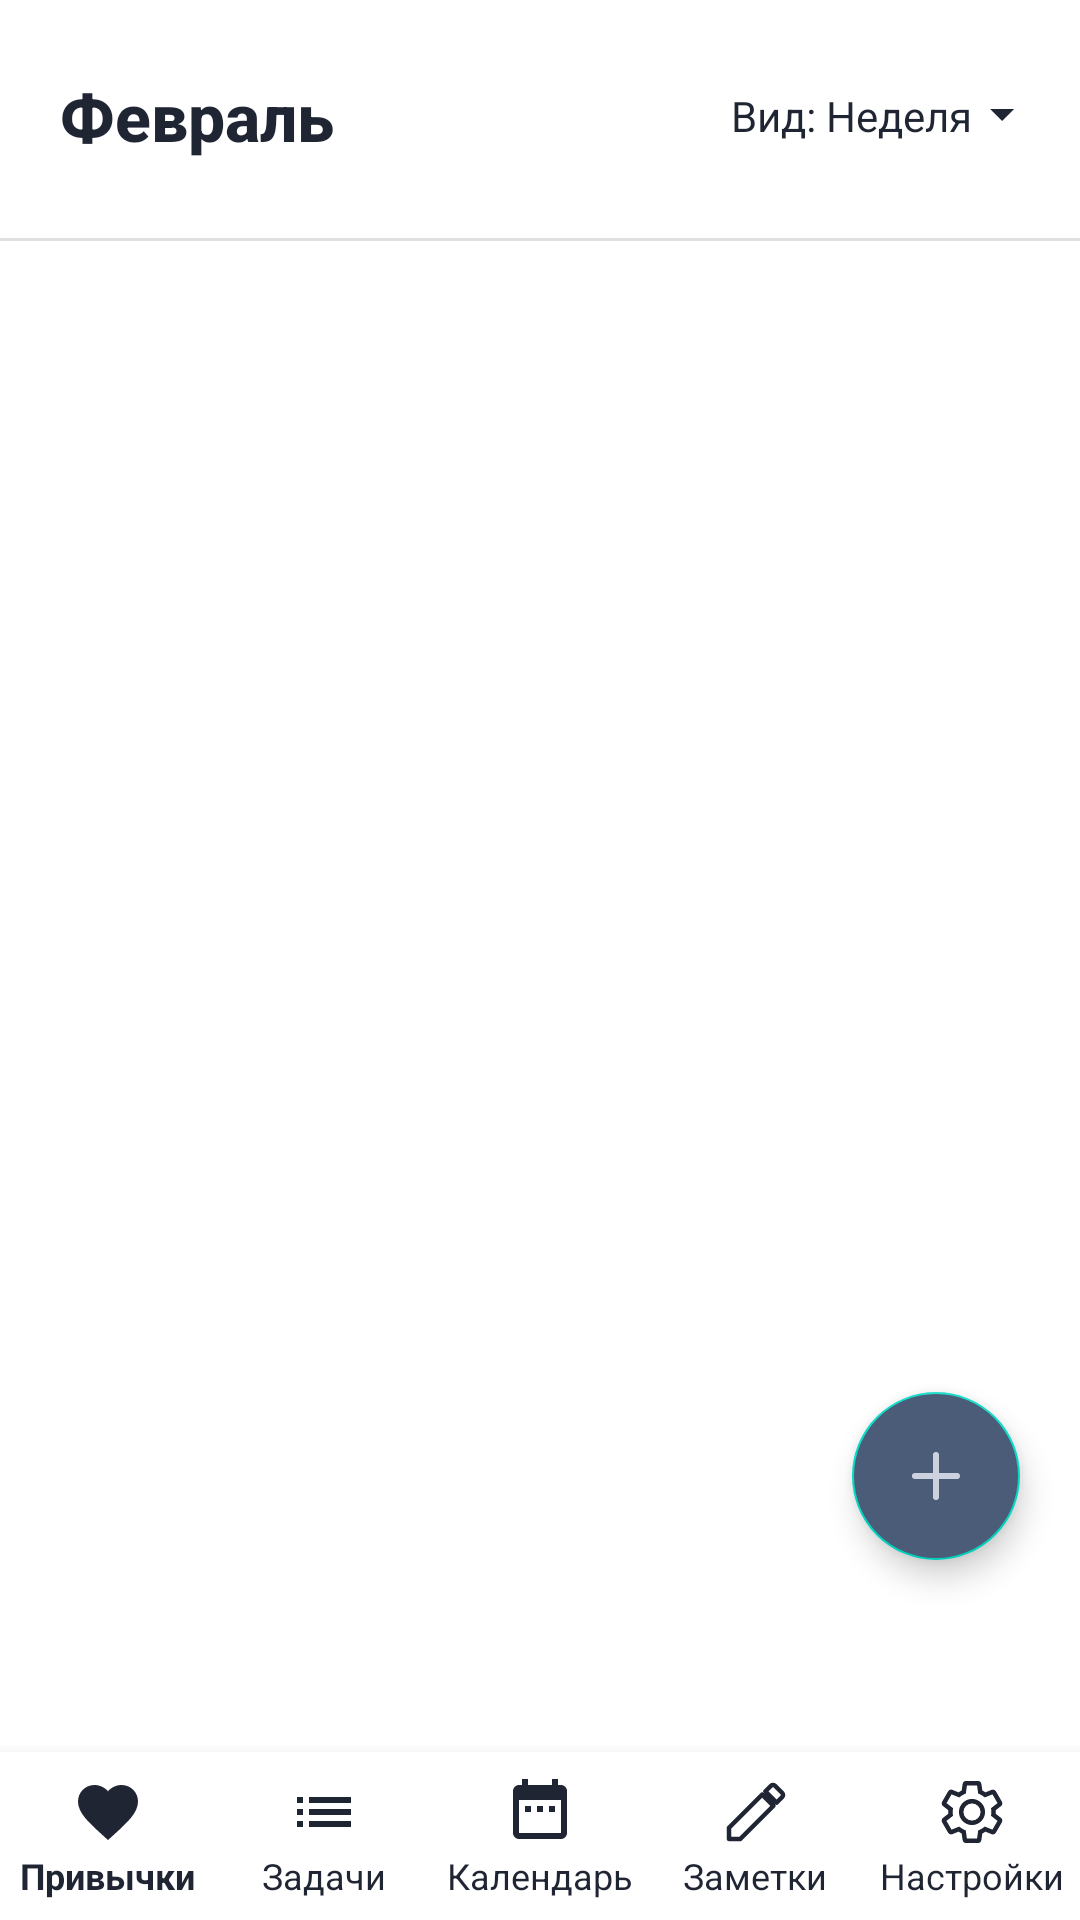

Screen size 1080*1920. Icon name, then its box in pixels as (x1, y1, x2, y2):
add: (852, 1392, 1020, 1560)
Выбор вида: (990, 109, 1014, 121)
